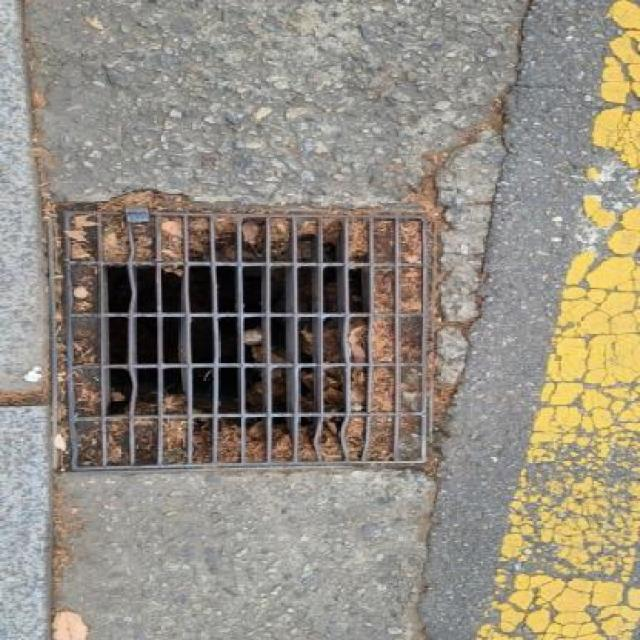drain-not clean-: (39, 198, 458, 485)
